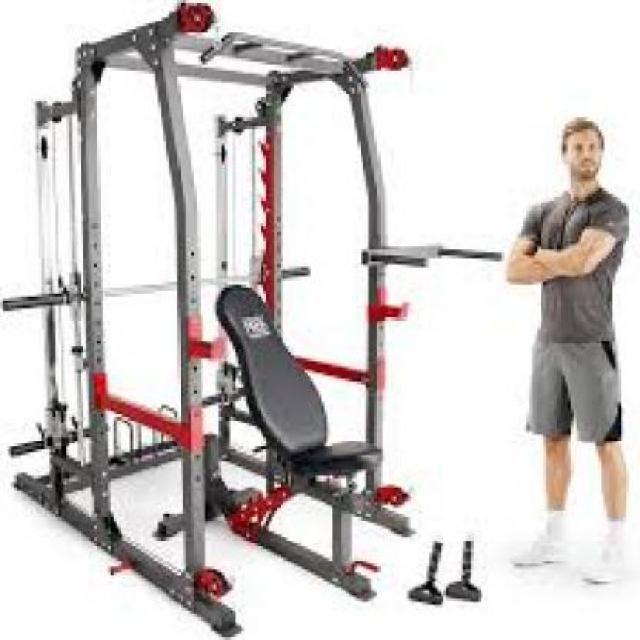smith machine: (3, 0, 431, 640)
